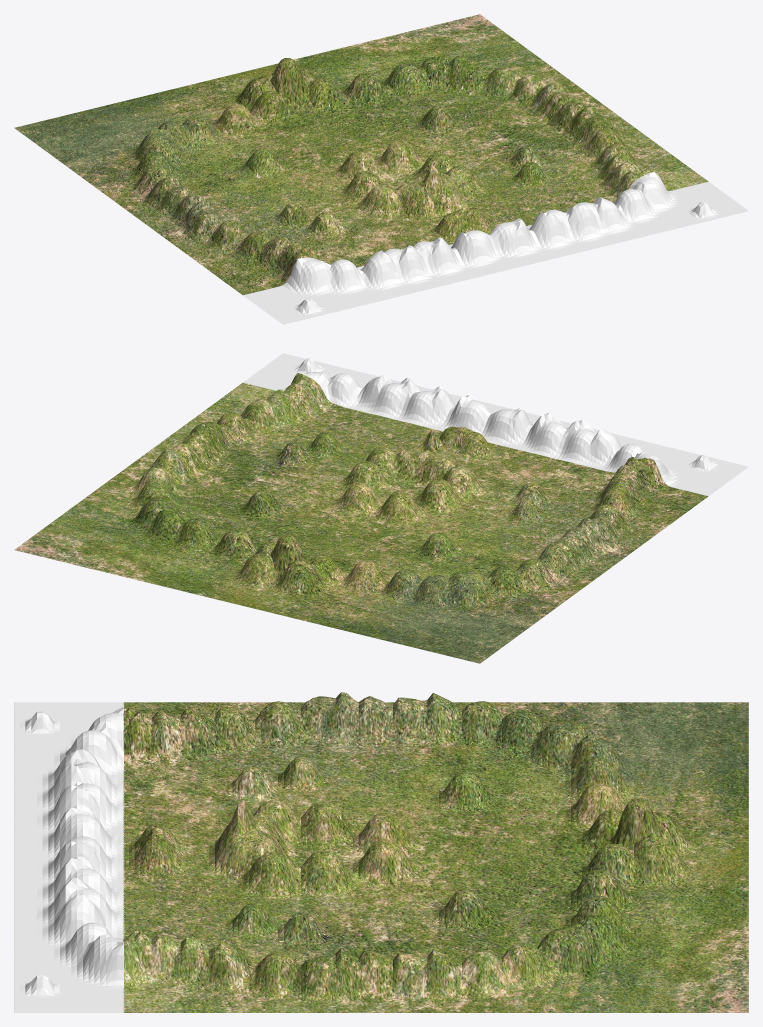
File: trraine.obj
3 renders of one model, top to bottom at view 1: azimuth 30°, elevation 25°; view 2: azimuth 150°, elevation 25°; view 3: azimuth 270°, elevation 25°, orthographic. The views are drawn at different scales.
Visible parts, largest first — view 1: Plane; view 2: Plane; view 3: Plane.
Boxes of the visible parts, x1=… form: Plane: x1=14, y1=14, x2=748, y2=324; Plane: x1=14, y1=353, x2=748, y2=663; Plane: x1=14, y1=692, x2=748, y2=1012.
Size of the model in its own units: 200 by 17.37 by 200.
